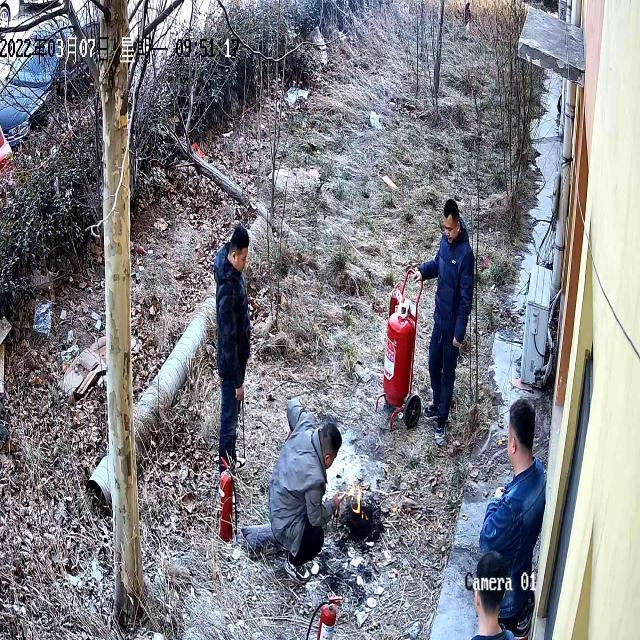Fire: (343, 477, 366, 513)
Smoke: (474, 403, 554, 621), (416, 196, 482, 430), (205, 220, 258, 470)
